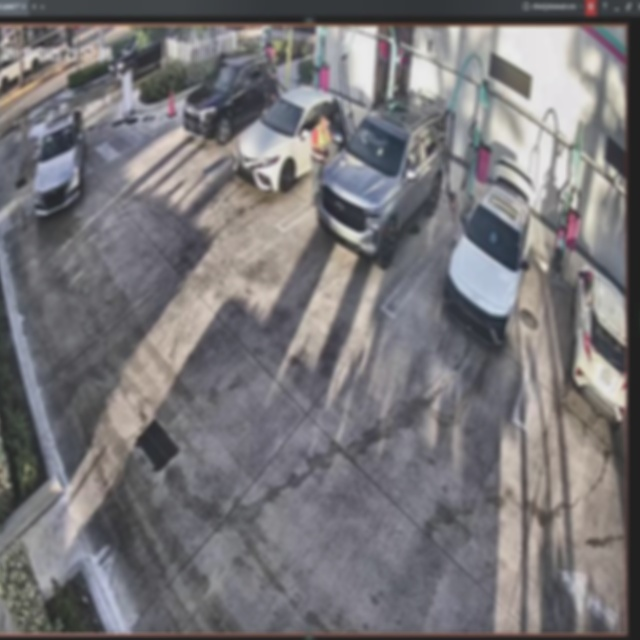Car: (313, 100, 447, 264), (446, 154, 534, 345), (236, 92, 355, 190), (184, 56, 276, 147)
